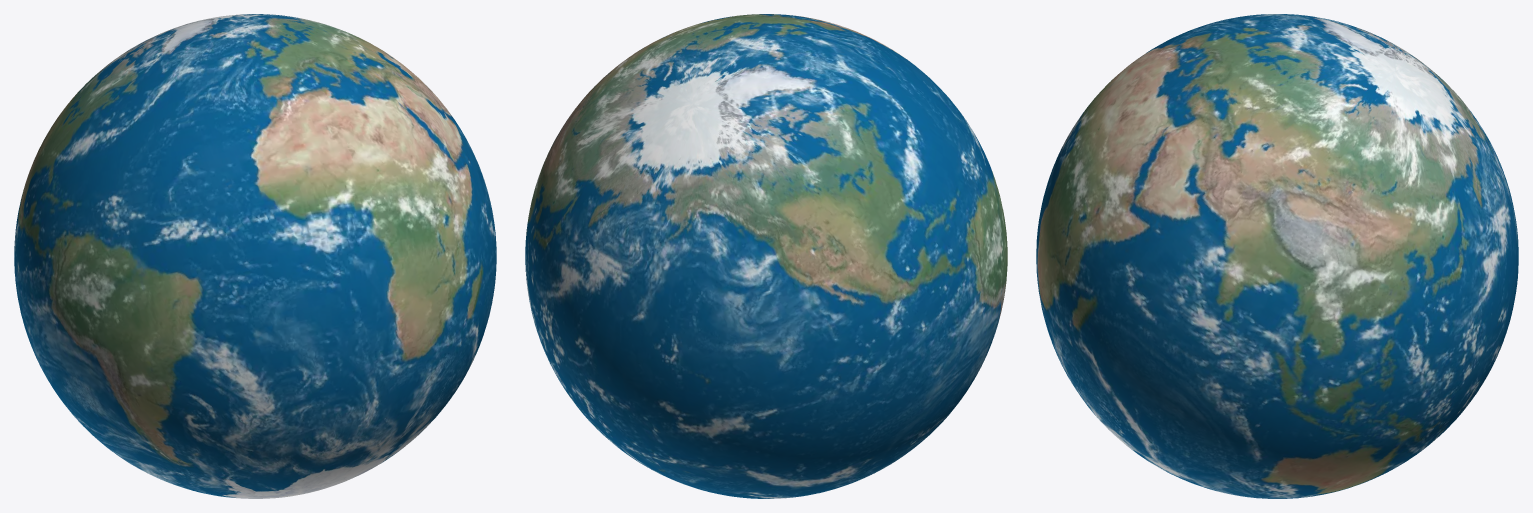
Rendered from newearth-transformed.glb.
The picture shows the model from 3 angles, left to right: view 1: azimuth 30°, elevation 25°; view 2: azimuth 150°, elevation 25°; view 3: azimuth 270°, elevation 25°; orthographic projection.
Parts seen in each view (by area): view 1: Sphere.001; view 2: Sphere.001; view 3: Sphere.001.
Boxes of the visible parts, box(x1,y1,x2,y2) form: Sphere.001: box(14, 14, 496, 498); Sphere.001: box(525, 14, 1007, 498); Sphere.001: box(1036, 14, 1518, 498).
Size of the model in its own units: 1.97 by 2 by 1.97.
1 material, 1 textured.
